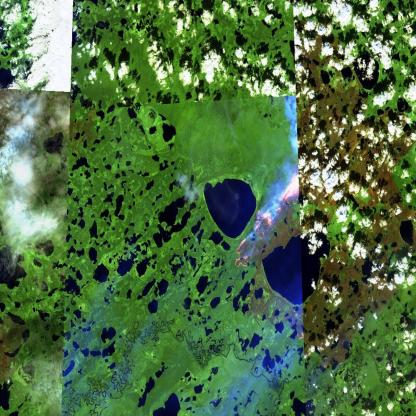fire: (232, 172, 308, 272)
